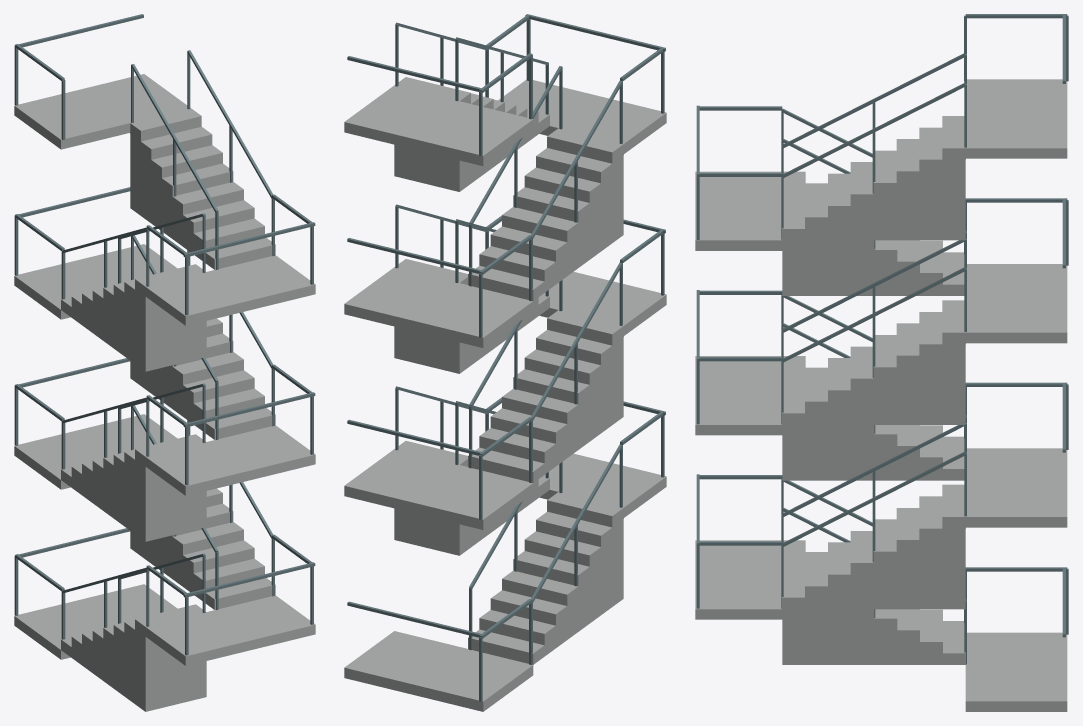
3 renders of one model, left to right at view 1: azimuth 30°, elevation 25°; view 2: azimuth 150°, elevation 25°; view 3: azimuth 270°, elevation 25°, orthographic. The views are drawn at different scales.
Visible parts, largest first — view 1: chawl_stair_near_landing_3, chawl_stair_far_landing_1, chawl_stair_far_landing_2, chawl_stair_far_landing_0, chawl_stair_floor_0_out_support, chawl_stair_floor_1_out_support, chawl_stair_floor_2_out_support, chawl_stair_near_landing_0, chawl_stair_near_landing_2, chawl_stair_near_landing_1, chawl_stair_floor_2_return_support, chawl_stair_floor_1_return_support (+31 smaller); view 2: chawl_stair_near_landing_1, chawl_stair_near_landing_0, chawl_stair_near_landing_3, chawl_stair_near_landing_2, chawl_stair_far_landing_2, chawl_stair_floor_0_out_support, chawl_stair_floor_2_out_support, chawl_stair_far_landing_1, chawl_stair_far_landing_0, chawl_stair_floor_1_out_support, chawl_stair_floor_0_return_support, chawl_stair_floor_1_return_support (+37 smaller); view 3: chawl_stair_floor_2_return_support, chawl_stair_floor_1_return_support, chawl_stair_floor_0_return_support, chawl_stair_near_landing_0, chawl_stair_near_landing_1, chawl_stair_near_landing_2, chawl_stair_near_landing_3, chawl_stair_floor_0_out_support, chawl_stair_floor_2_out_support, chawl_stair_floor_1_out_support, chawl_stair_far_landing_0, chawl_stair_far_landing_1 (+40 smaller).
Part boxes in pixels (bbox=[...]): chawl_stair_near_landing_3: bbox=[14, 74, 190, 149]; chawl_stair_far_landing_1: bbox=[145, 425, 315, 495]; chawl_stair_far_landing_2: bbox=[145, 255, 315, 325]; chawl_stair_far_landing_0: bbox=[145, 595, 315, 665]; chawl_stair_floor_0_out_support: bbox=[61, 627, 206, 711]; chawl_stair_floor_1_out_support: bbox=[61, 457, 206, 541]; chawl_stair_floor_2_out_support: bbox=[61, 287, 206, 371]; chawl_stair_near_landing_0: bbox=[14, 584, 177, 659]; chawl_stair_near_landing_2: bbox=[14, 244, 177, 319]; chawl_stair_near_landing_1: bbox=[14, 414, 177, 489]; chawl_stair_floor_2_return_support: bbox=[130, 124, 214, 269]; chawl_stair_floor_1_return_support: bbox=[130, 361, 214, 439]; chawl_stair_near_landing_1: bbox=[344, 449, 533, 529]; chawl_stair_near_landing_0: bbox=[344, 631, 533, 711]; chawl_stair_near_landing_3: bbox=[344, 85, 533, 166]; chawl_stair_near_landing_2: bbox=[344, 267, 533, 347]; chawl_stair_far_landing_2: bbox=[498, 79, 666, 153]; chawl_stair_floor_0_out_support: bbox=[535, 508, 623, 662]; chawl_stair_floor_2_out_support: bbox=[534, 145, 623, 299]; chawl_stair_far_landing_1: bbox=[539, 271, 666, 335]; chawl_stair_far_landing_0: bbox=[539, 453, 666, 517]; chawl_stair_floor_1_out_support: bbox=[540, 326, 623, 474]; chawl_stair_floor_0_return_support: bbox=[394, 485, 549, 555]; chawl_stair_floor_1_return_support: bbox=[394, 304, 549, 373]; chawl_stair_floor_2_return_support: bbox=[783, 149, 965, 240]; chawl_stair_floor_1_return_support: bbox=[784, 333, 965, 424]; chawl_stair_floor_0_return_support: bbox=[784, 517, 965, 609]; chawl_stair_near_landing_0: bbox=[965, 632, 1067, 711]; chawl_stair_near_landing_1: bbox=[965, 448, 1067, 527]; chawl_stair_near_landing_2: bbox=[965, 264, 1067, 343]; chawl_stair_near_landing_3: bbox=[965, 79, 1067, 158]; chawl_stair_floor_0_out_support: bbox=[782, 609, 964, 664]; chawl_stair_floor_2_out_support: bbox=[782, 240, 963, 295]; chawl_stair_floor_1_out_support: bbox=[782, 425, 956, 480]; chawl_stair_far_landing_0: bbox=[695, 540, 782, 619]; chawl_stair_far_landing_1: bbox=[695, 356, 782, 435].
Size of the model in its own units: 2.24 by 9.56 by 5.14.
